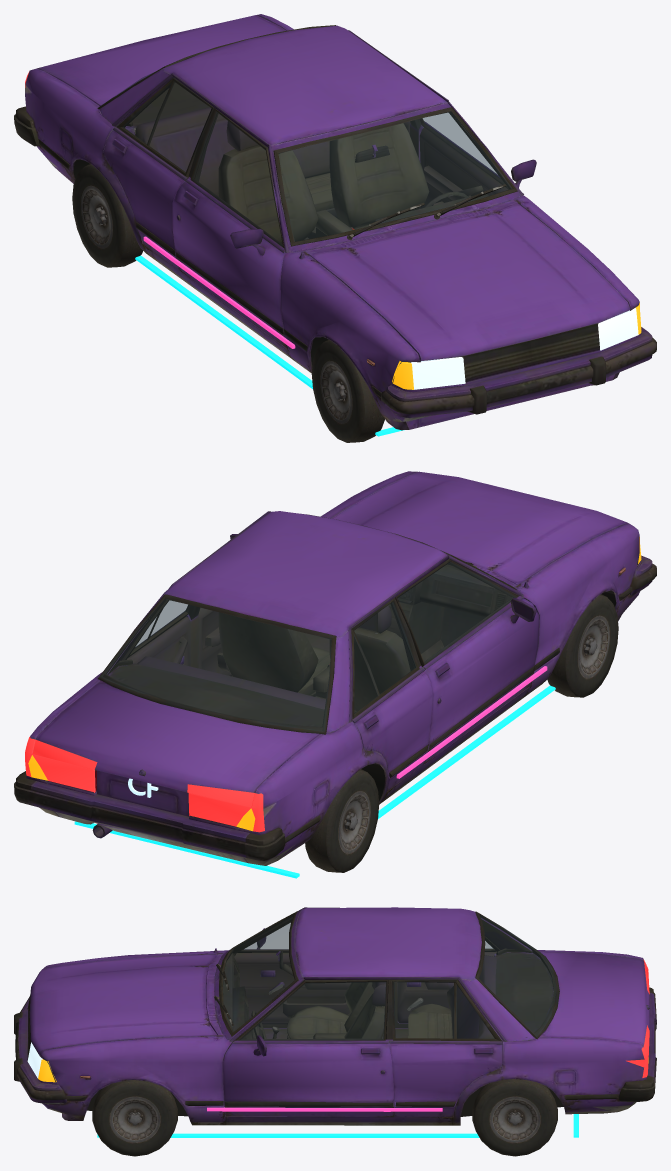
File: car-low.glb
3 views of the same model, one above another, from view 1: azimuth 30°, elevation 25°; view 2: azimuth 150°, elevation 25°; view 3: azimuth 270°, elevation 25° (orthographic). The views are drawn at different scales.
Visible parts, largest first — view 1: body, glass, cockpit_static, wheel_FR, wheel_RR, neon_body, neon_side; view 2: body, glass, cockpit_static, wheel_RR, wheel_FR, neon_body, neon_side; view 3: body, glass, cockpit_static, wheel_RL, wheel_FL, neon_body, neon_side.
Part boxes in pixels (<box>): body: <box>14,14,656,430</box>; glass: <box>110,72,511,246</box>; cockpit_static: <box>218,123,506,243</box>; wheel_FR: <box>311,340,384,442</box>; wheel_RR: <box>72,164,142,267</box>; neon_body: <box>135,255,404,436</box>; neon_side: <box>143,236,295,348</box>; body: <box>14,471,656,865</box>; glass: <box>100,562,515,731</box>; cockpit_static: <box>218,562,512,712</box>; wheel_RR: <box>305,769,379,872</box>; wheel_FR: <box>547,594,618,697</box>; neon_body: <box>74,685,555,878</box>; neon_side: <box>396,666,547,778</box>; body: <box>14,907,656,1125</box>; glass: <box>223,915,556,1040</box>; cockpit_static: <box>214,953,452,1039</box>; wheel_RL: <box>472,1079,557,1156</box>; wheel_FL: <box>92,1080,177,1156</box>; neon_body: <box>97,1114,578,1137</box>; neon_side: <box>207,1107,442,1111</box>.
Size of the model in its own units: 2.62 by 1.79 by 6.01.
13 materials, 3 textured.
